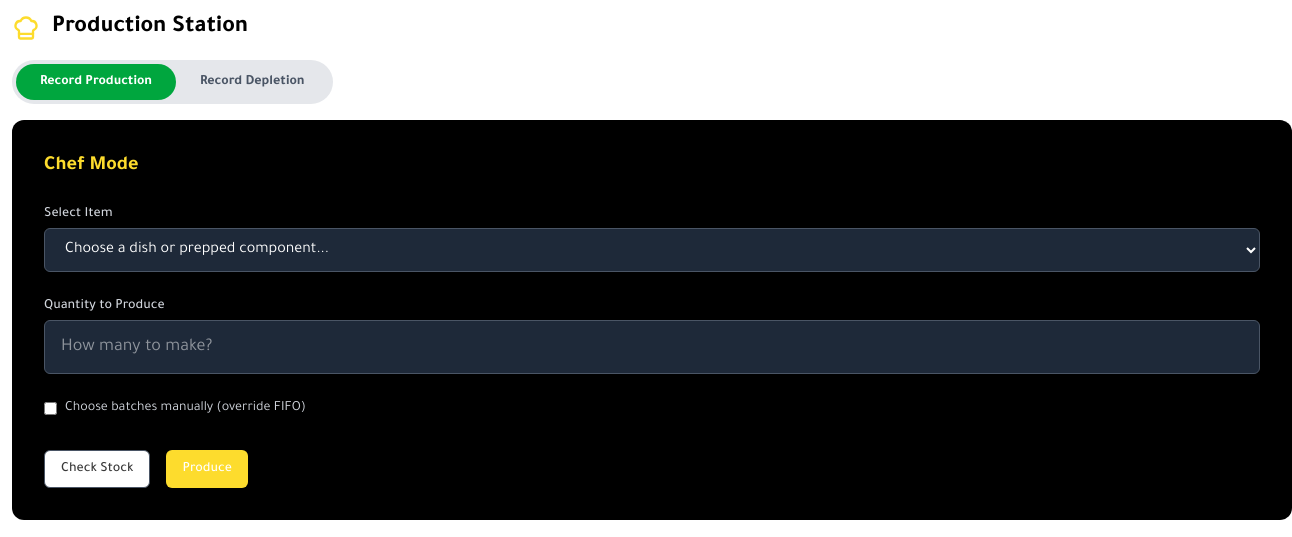
Test: ProductionPage › clicking the Deplete tab hides the Produce form and shows the Deplete form
Expected: the heading "Chef Mode" is shown, [44,156,138,176]
Expected: the text "Deplete Stock" is not shown
// Click the deplete tab
Click the button "Record Depletion". click: (252, 82)
box: [176,64,329,100]
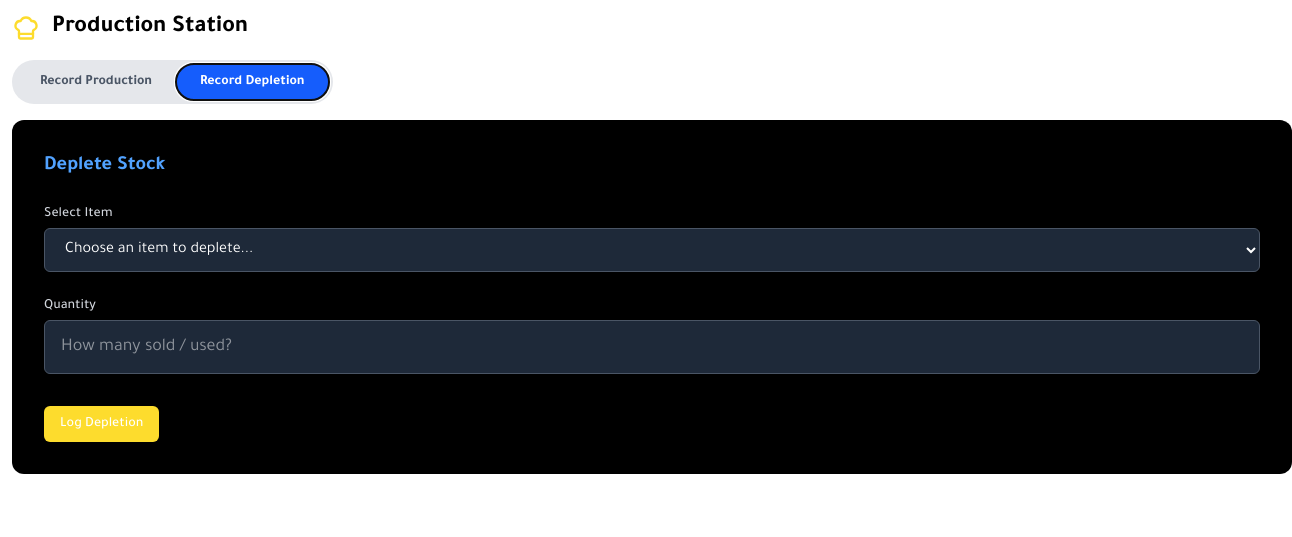
Now the heading "Chef Mode" is gone
Now the heading "Deplete Stock" is shown, box [44,156,165,176]
Now the button "Log Depletion" is shown, box [44,406,159,442]
